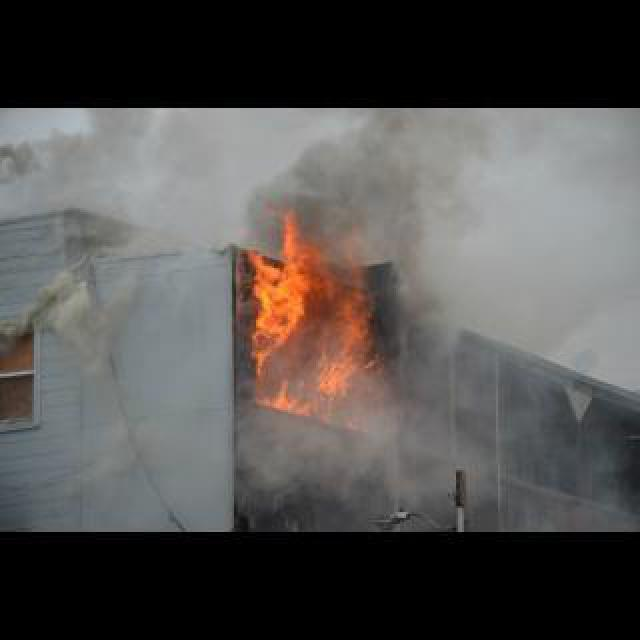Fire: (232, 202, 382, 432)
Smoke: (206, 380, 492, 514), (238, 112, 476, 242)
